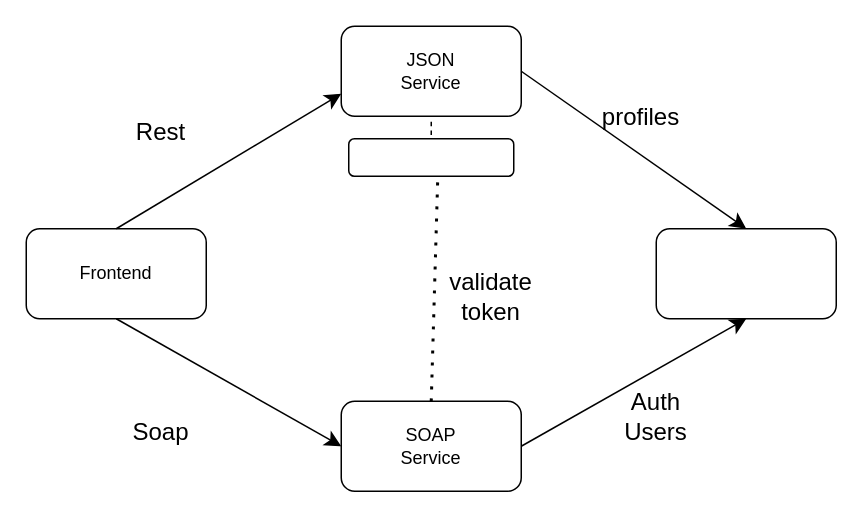
This 863x518 diagram has some shape labels left out. Here are the shapes that lost their labels. From the top down, the box of each, then its label:
(347, 137, 514, 176): Auth Middleware
(655, 227, 836, 319): H2 Database
